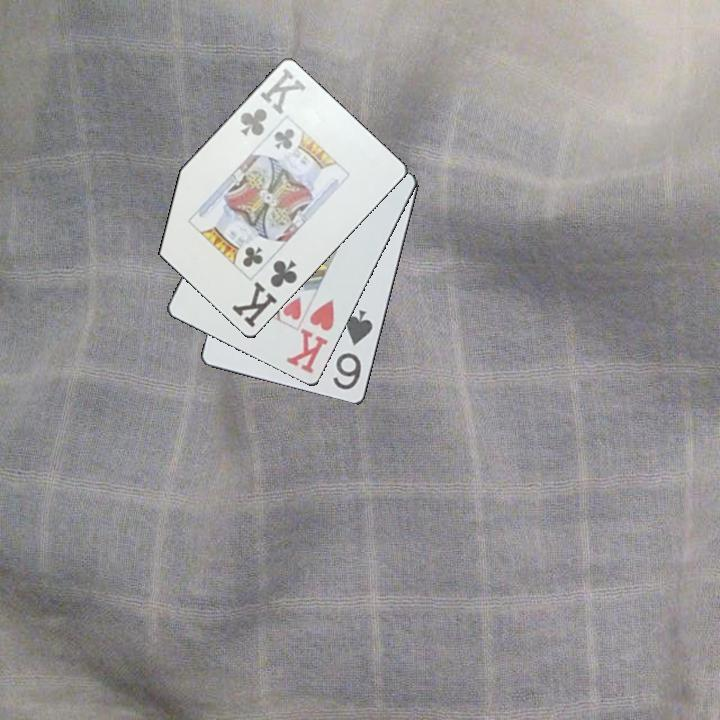6s: (329, 306, 377, 393)
Kc: (236, 65, 309, 140), (228, 257, 300, 331)
Kh: (282, 295, 337, 377)
